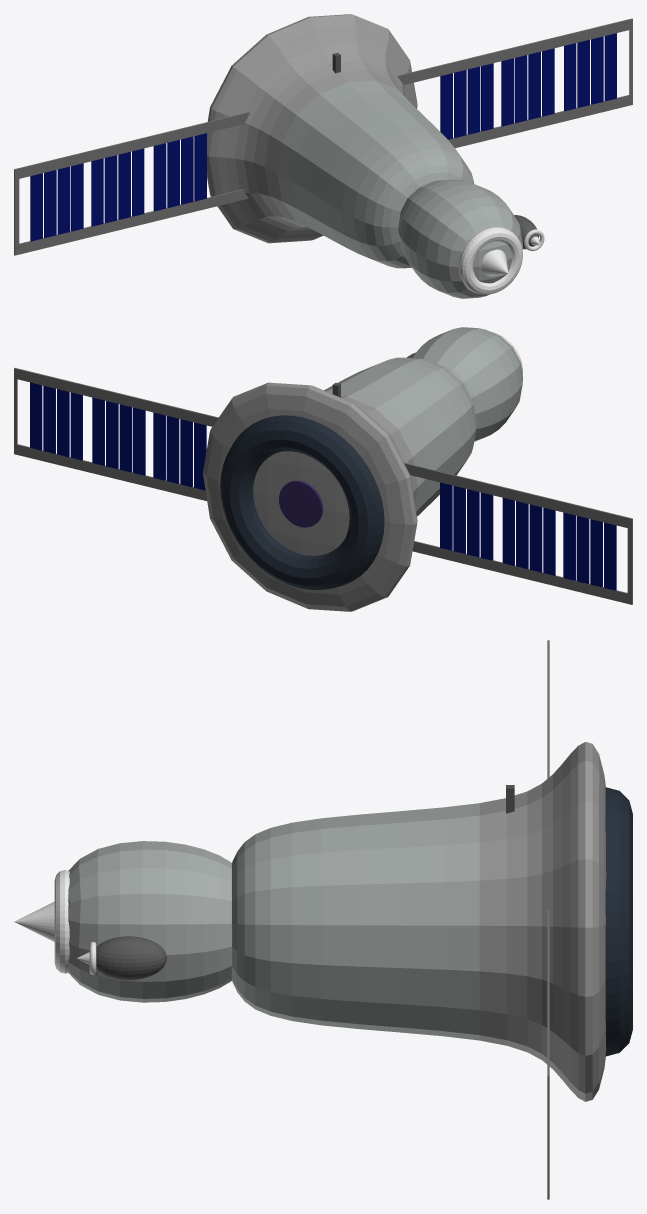
File: SpaceBase.fbx
3 renders of one model, top to bottom at view 1: azimuth 30°, elevation 25°; view 2: azimuth 150°, elevation 25°; view 3: azimuth 270°, elevation 25°, orthographic. The views are drawn at different scales.
Parts seen in each view (by area): view 1: Cube, Cube.002, Cube.001, Torus, Cube.011, Cube.008, Cube.017, Cube.005, Cube.020, Cube.006, Cube.009, Cube.012 (+17 smaller); view 2: Cube, Torus.002, Cube.002, Cube.001, Cylinder, Cube.008, Cube.011, Cube.020, Cube.005, Cube.017, Cube.003, Cube.006 (+17 smaller); view 3: Cube, Cube.001, Torus.002, Sphere, Torus, Cube.002, Cone.
Boxes of the visible parts, x1,y1,x2,y2 form: Cube: [207, 14, 473, 268]; Cube.002: [14, 18, 632, 255]; Cube.001: [398, 179, 522, 298]; Torus: [459, 227, 522, 294]; Cube.011: [153, 143, 166, 211]; Cube.008: [104, 155, 117, 223]; Cube.017: [467, 66, 480, 134]; Cube.005: [57, 166, 70, 234]; Cube.020: [514, 55, 527, 123]; Cube.006: [71, 163, 83, 231]; Cube.009: [118, 151, 130, 219]; Cube.012: [167, 139, 179, 207]; Cube: [203, 357, 476, 611]; Torus.002: [220, 415, 384, 589]; Cube.002: [14, 368, 632, 604]; Cube.001: [412, 327, 522, 441]; Cylinder: [279, 480, 322, 527]; Cube.008: [529, 504, 542, 572]; Cube.011: [480, 492, 493, 560]; Cube.020: [119, 404, 132, 472]; Cube.005: [576, 516, 589, 583]; Cube.017: [166, 416, 179, 483]; Cube.003: [604, 522, 616, 590]; Cube.006: [563, 512, 575, 580]; Cube: [232, 742, 606, 1101]; Cube.001: [68, 841, 231, 1002]; Torus.002: [605, 787, 632, 1056]; Sphere: [96, 936, 166, 979]; Torus: [54, 870, 69, 973]; Cube.002: [547, 640, 549, 1199]; Cone: [14, 901, 54, 941].
Bounding box in the file's own units: 1507 × 520 × 905.
